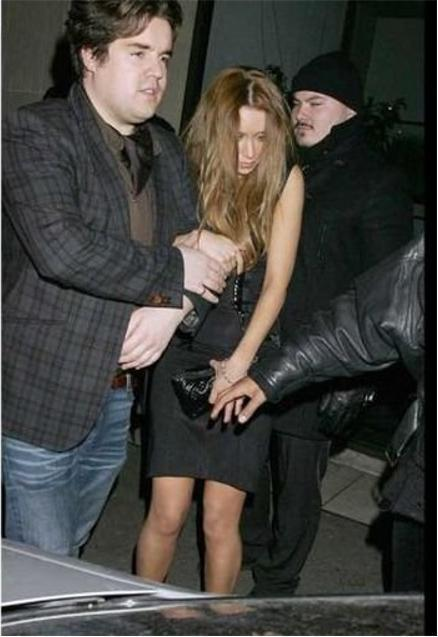Drunk: (103, 20, 173, 121), (228, 100, 267, 177), (286, 90, 337, 147)
